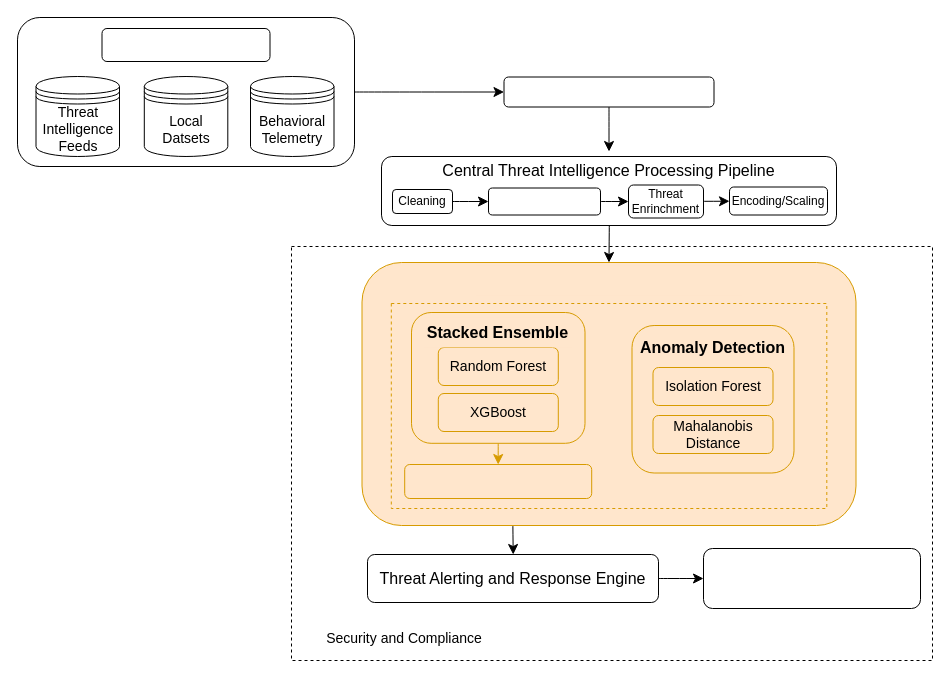
This 950x678 diagram has some shape labels left out. Here are the shapes that lost their labels. From the top down, the centre of each, then its label:
At pixel 185 45: "Data Sources".
At pixel 608 91: "Data Ingestion".
At pixel 544 201: "Feature Engineering".
At pixel 609 280: "AI Based Threat Detection Layer".
At pixel 498 481: "Meta Learner: Logistic Regression".
At pixel 811 578: "Feedback-Driven Adaptive Learning".
